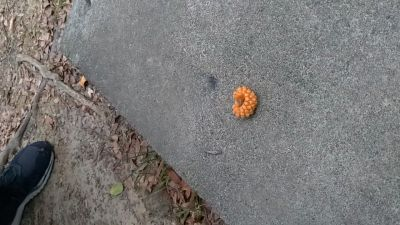eggs: (231, 84, 259, 119)
